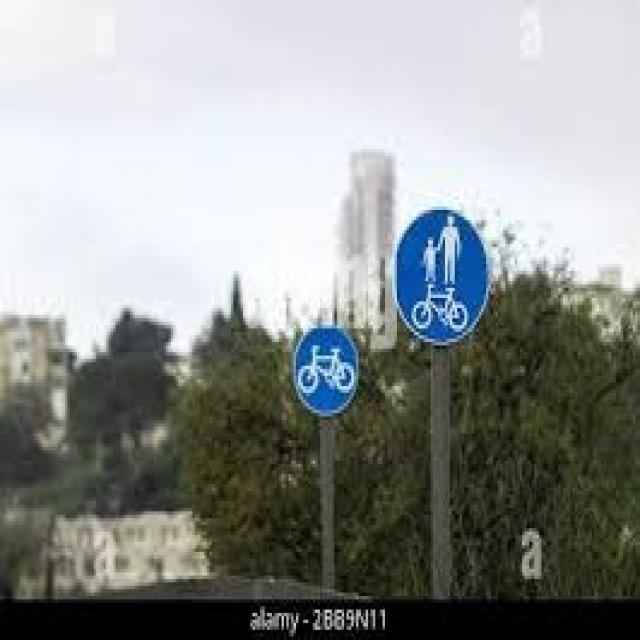bicycle: (279, 309, 371, 442)
